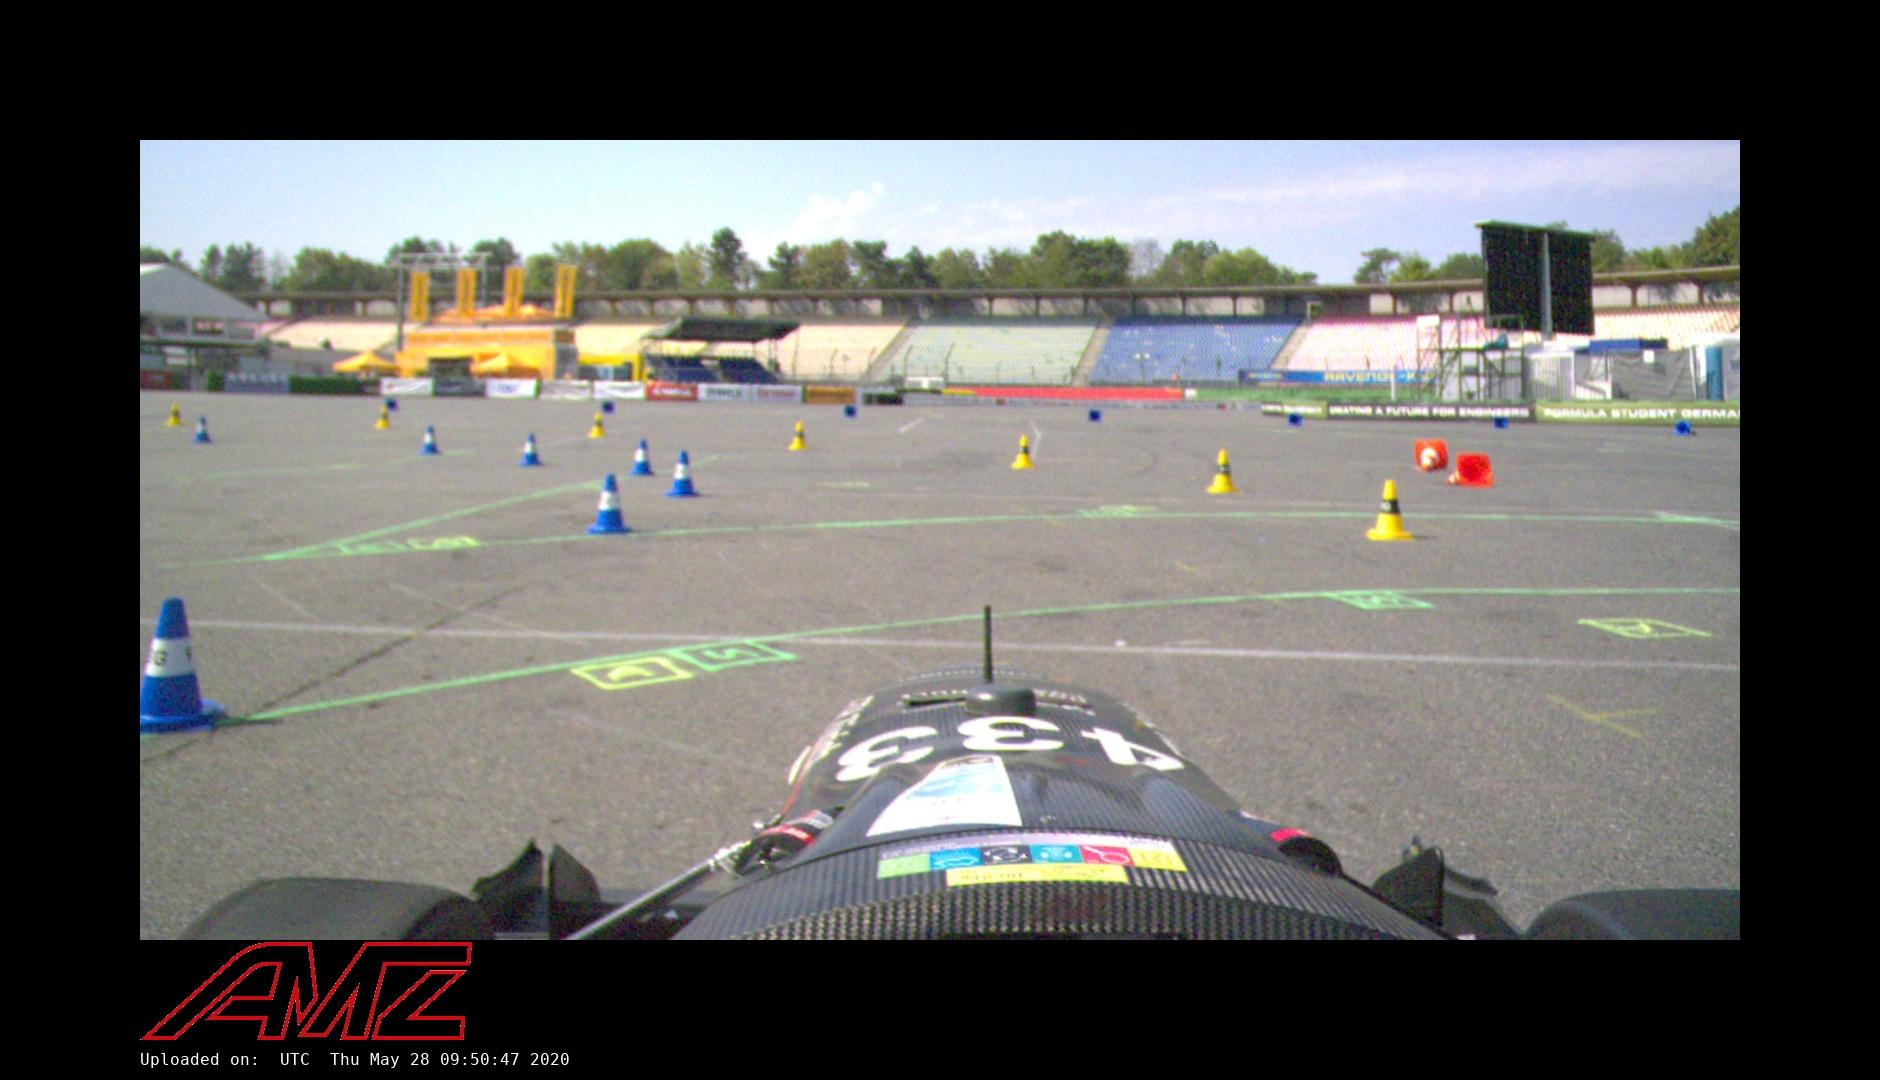blue_cone: (139, 593, 223, 732), (586, 473, 631, 536), (662, 451, 700, 499), (630, 438, 657, 477), (515, 431, 542, 466), (416, 425, 439, 456), (189, 415, 212, 444), (1673, 420, 1698, 435)
orange_cone: (1447, 452, 1494, 490), (1413, 439, 1450, 474)
yellow_cone: (1364, 479, 1416, 543), (1203, 450, 1240, 495), (1010, 435, 1036, 470), (785, 420, 810, 453), (587, 411, 608, 439), (164, 400, 183, 428), (374, 404, 393, 430)
